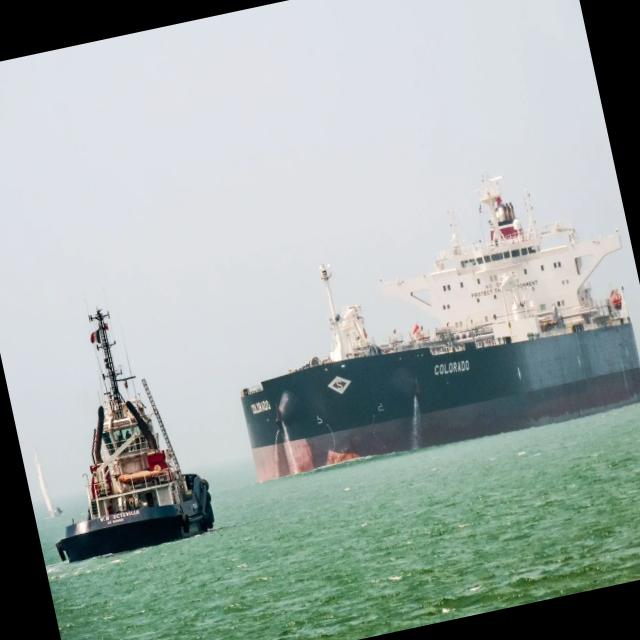Tanker: (240, 175, 640, 481)
Tug: (55, 309, 213, 562)
